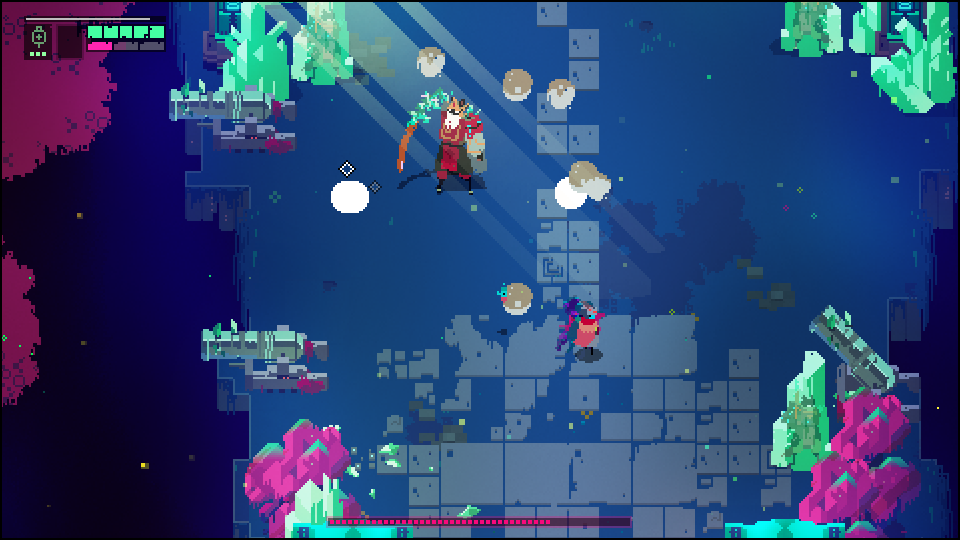hanged_man: (396, 87, 491, 201)
player: (571, 303, 603, 359)
